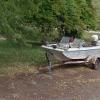Boat: (38, 33, 100, 76)
